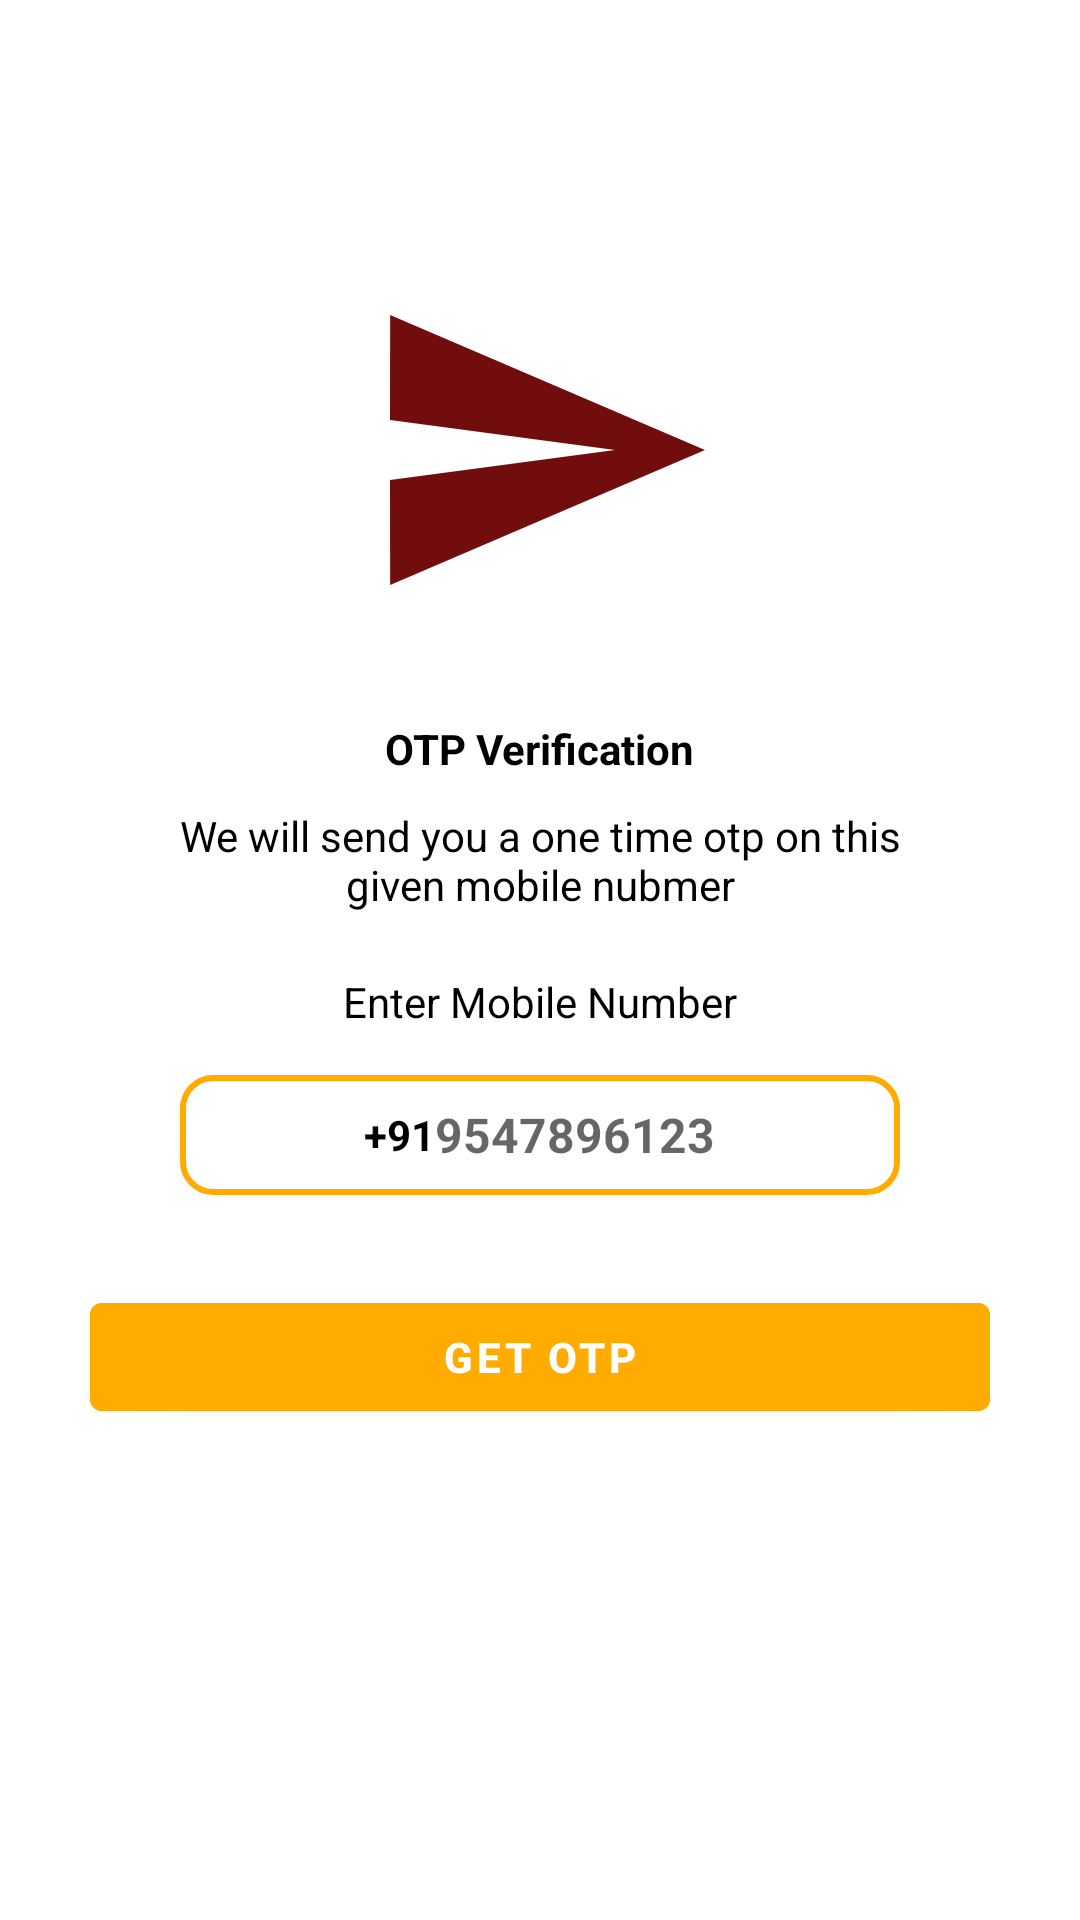

Screen size 1080 × 1920. Icon name, then its box in pixels as BBox(x1, y1, x2, y2):
send otp: BBox(390, 315, 705, 585)
